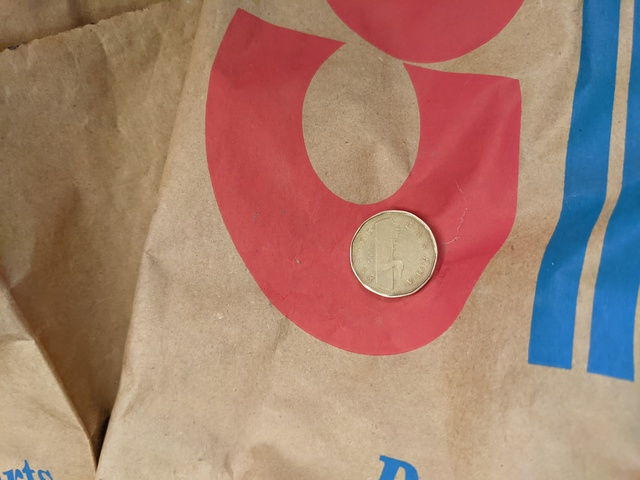loonie: (344, 199, 450, 300)
